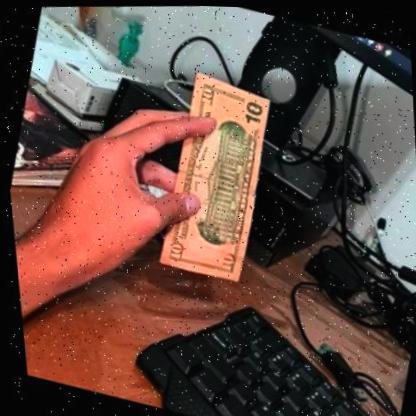dollar_back: (133, 61, 294, 289)
